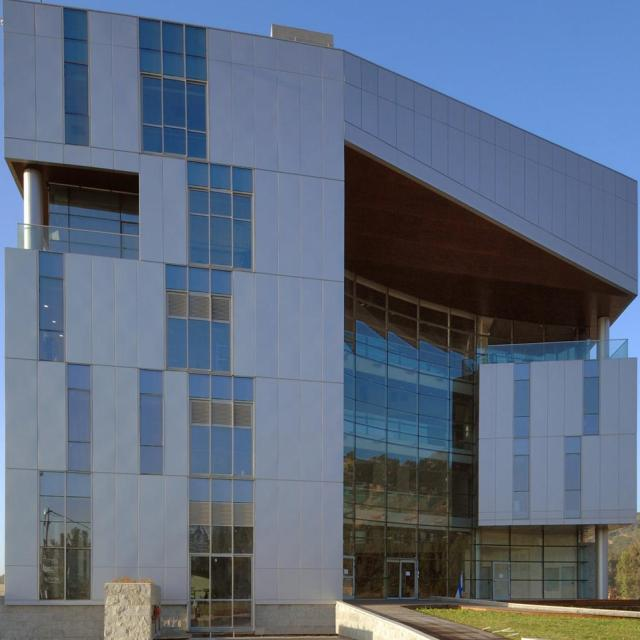door: (385, 556, 418, 601), (492, 560, 512, 600), (343, 555, 356, 601)
railing: (19, 223, 141, 264)
window: (342, 270, 599, 601), (141, 16, 259, 634), (37, 361, 93, 599), (49, 185, 140, 230), (64, 5, 90, 148), (38, 250, 65, 362)
